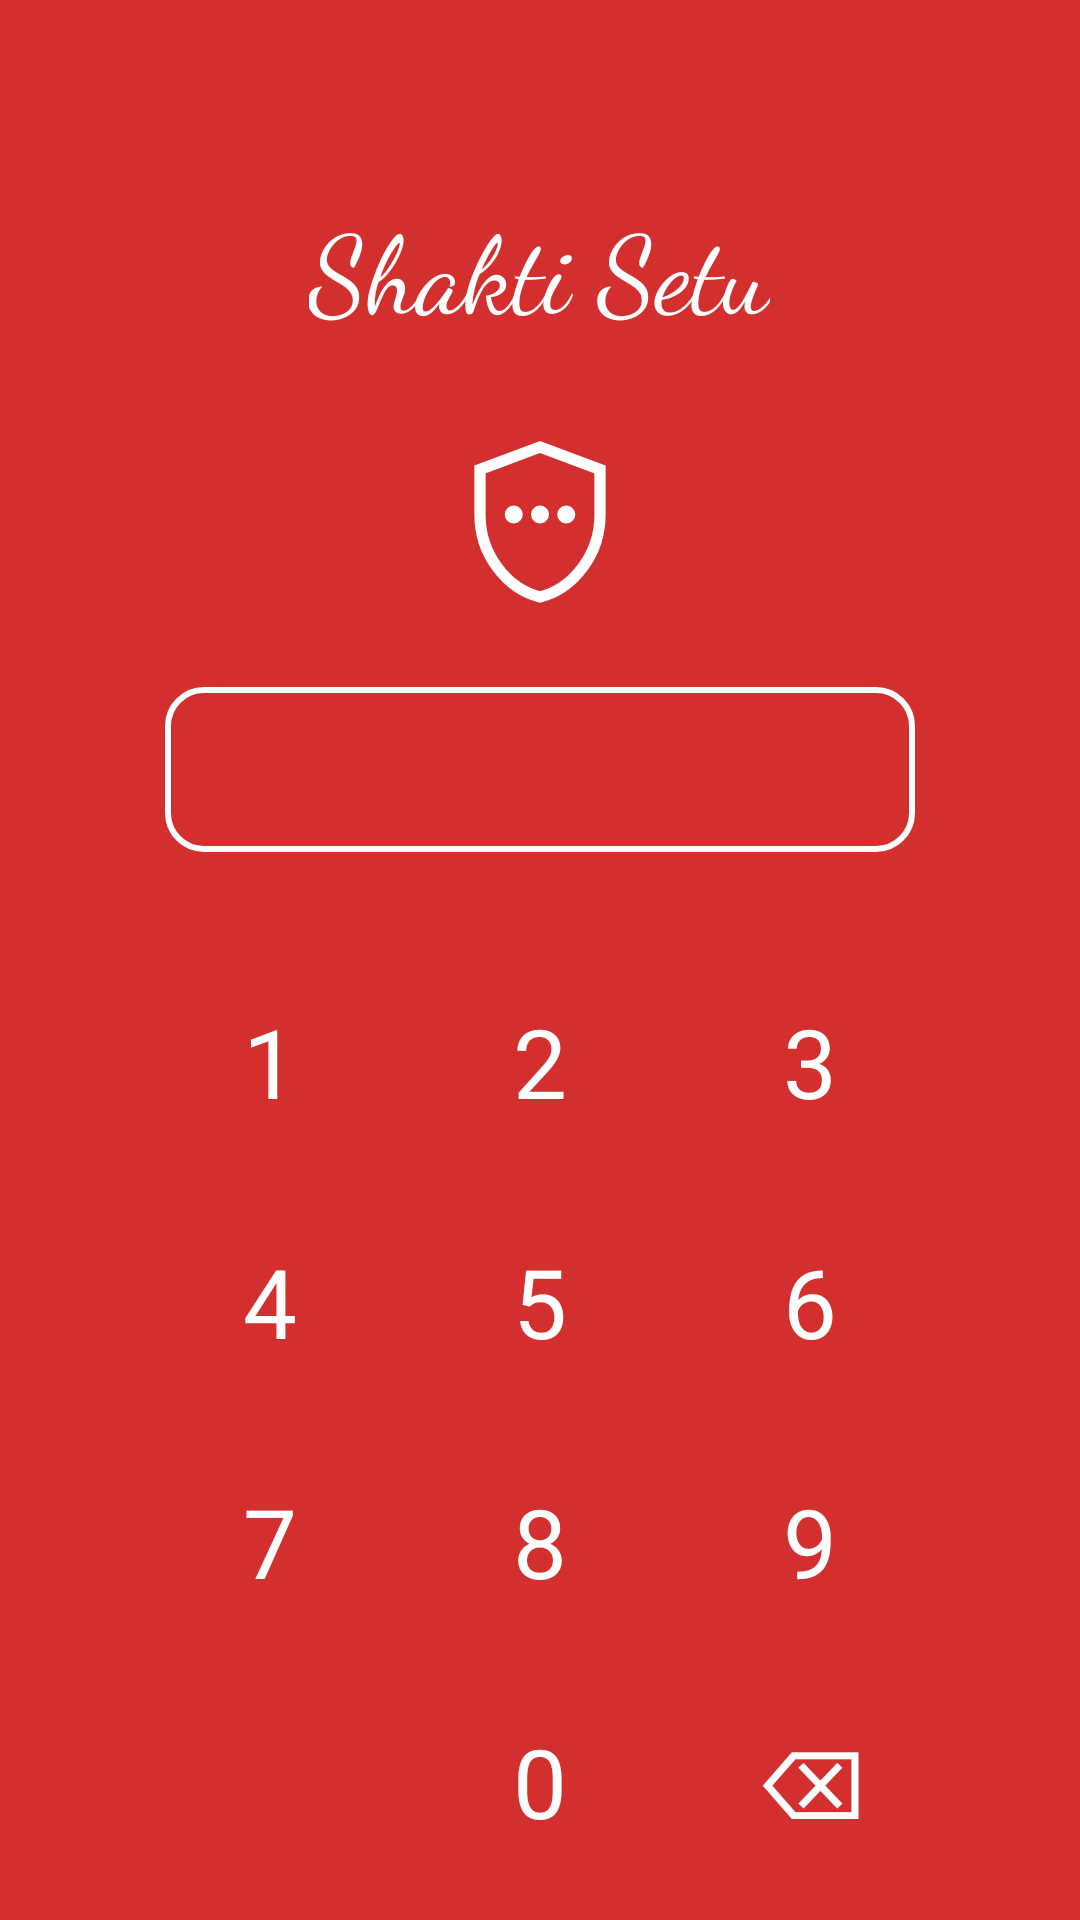

Where to tap for icons on this 1080w x 1920h app screen, as [x,y]:
Shield: [540,522]
